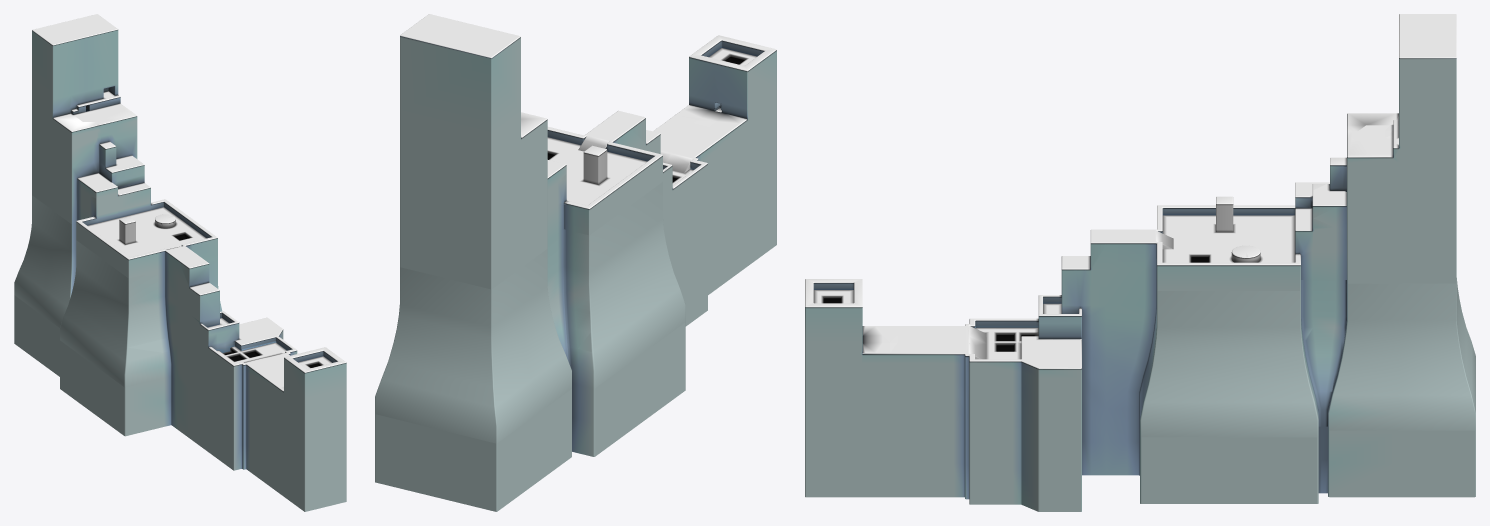
File: CapWorldTower.fbx
3 renders of one model, left to right at view 1: azimuth 30°, elevation 25°; view 2: azimuth 150°, elevation 25°; view 3: azimuth 270°, elevation 25°, orthographic. The views are drawn at different scales.
Visible parts, largest first — view 1: CapWorldTowerGround000.003; view 2: CapWorldTowerGround000.003; view 3: CapWorldTowerGround000.003.
Part boxes in pixels (left/top/right/bottom): CapWorldTowerGround000.003: left=14, top=14, right=346, bottom=511; CapWorldTowerGround000.003: left=375, top=14, right=776, bottom=511; CapWorldTowerGround000.003: left=805, top=14, right=1475, bottom=511.
Bounding box in the file's own units: 664759 × 1655001 × 2326507.
